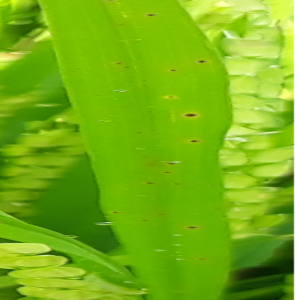Brown_Spot: (161, 89, 181, 103), (193, 253, 211, 268), (181, 108, 201, 121), (141, 8, 160, 20), (185, 134, 202, 146), (166, 64, 182, 76), (142, 176, 157, 188), (170, 178, 185, 190), (194, 55, 210, 66), (164, 157, 178, 169), (185, 221, 200, 232), (110, 205, 122, 218), (156, 209, 170, 220), (133, 127, 146, 138), (161, 165, 172, 177), (140, 216, 151, 226), (121, 63, 134, 71), (116, 19, 126, 29), (113, 59, 124, 68), (139, 81, 151, 89), (141, 76, 149, 83)
